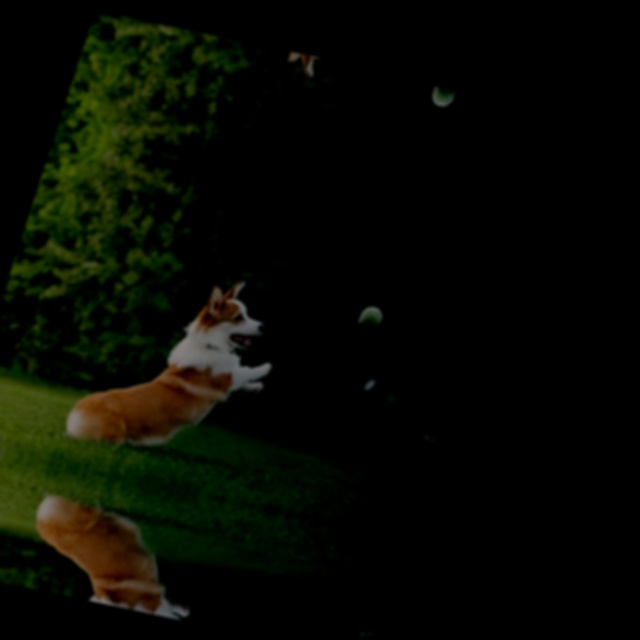dog: (178, 266, 290, 360), (266, 48, 361, 90)
